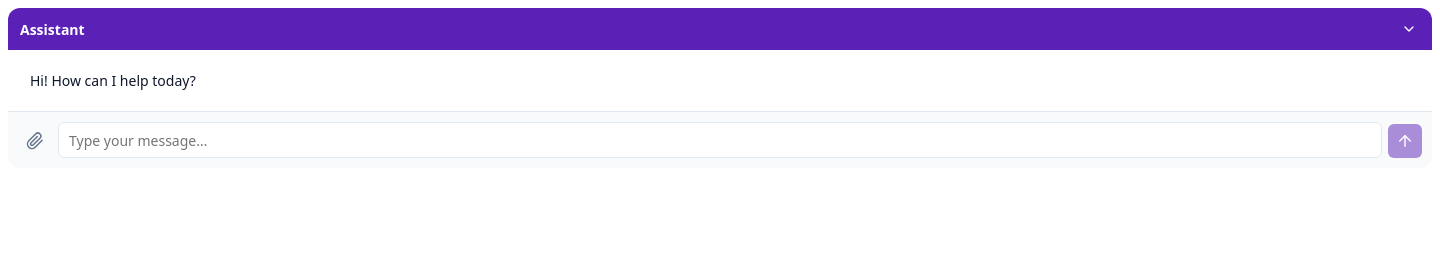
Test: React view — workspace files › keeps the files on the message once the turn is committed
The image size is (1440, 272).
In the text box: (720, 140) [58, 122, 1382, 158], type "chart it"
Then press Enter
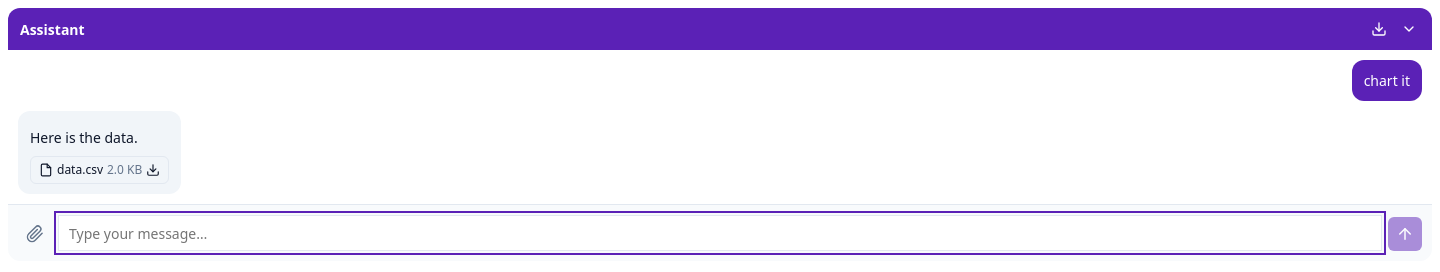
Expected: the link "data.csv 2.0 KB" is shown, [30, 156, 169, 184]
